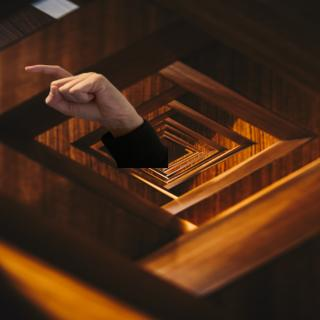WHY: (21, 58, 136, 130)
